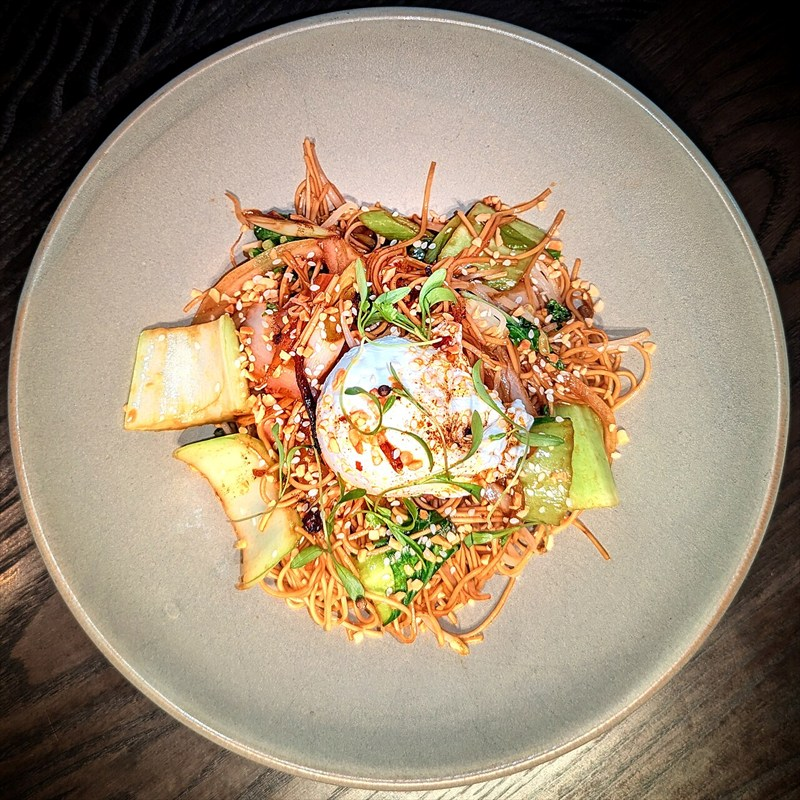Mie Goreng: (167, 179, 618, 635)
